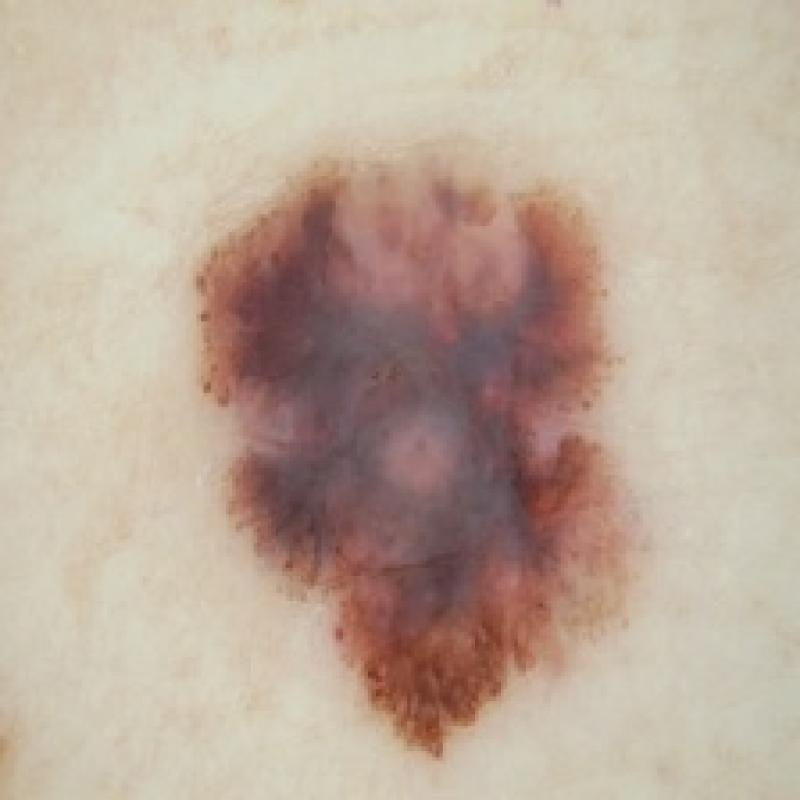malignant: (168, 127, 681, 780)
